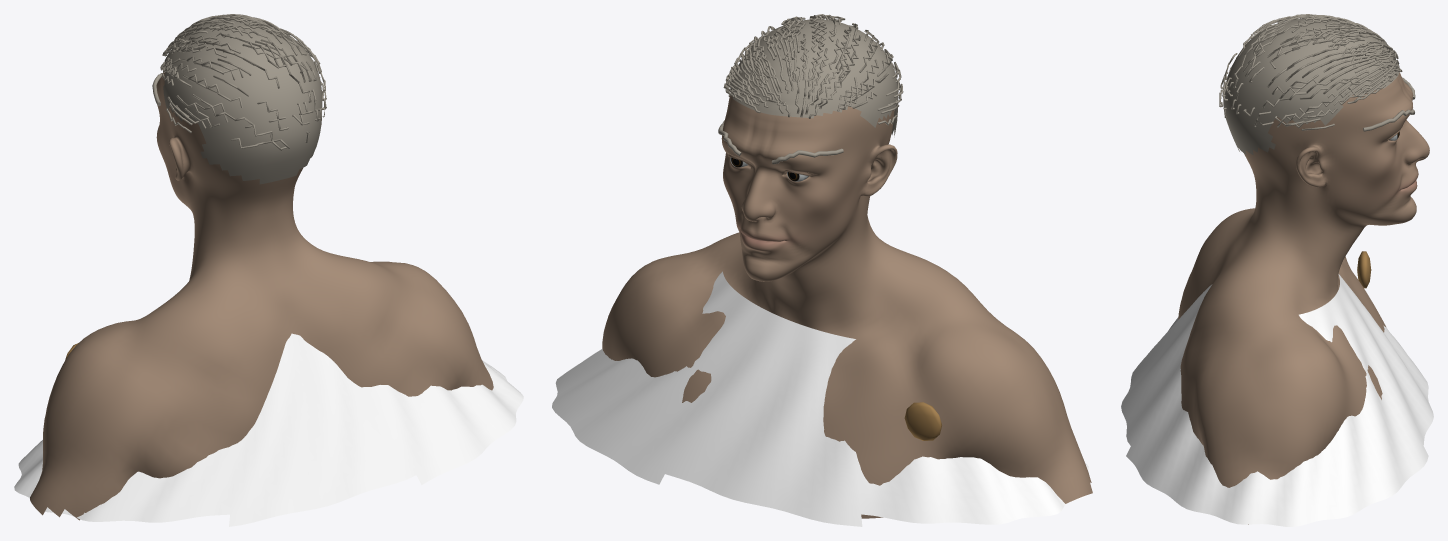
File: envoy_015.glb
3 renders of one model, left to right at view 1: azimuth 30°, elevation 25°; view 2: azimuth 150°, elevation 25°; view 3: azimuth 270°, elevation 25°, orthographic. The views are drawn at different scales.
Visible parts, largest first — view 1: Envoy 015 body, Folded shoulder mantle, Envoy 015 fitted scalp; view 2: Envoy 015 body, Folded shoulder mantle, Envoy 015 fitted scalp, Shoulder clasp; view 3: Envoy 015 body, Folded shoulder mantle, Envoy 015 fitted scalp, Shoulder clasp.
Boxes of the visible parts, bbox=[...] form: Envoy 015 body: bbox=[30, 72, 493, 520]; Folded shoulder mantle: bbox=[14, 333, 523, 526]; Envoy 015 fitted scalp: bbox=[163, 19, 322, 184]; Envoy 015 body: bbox=[602, 92, 1092, 518]; Folded shoulder mantle: bbox=[552, 271, 1088, 526]; Envoy 015 fitted scalp: bbox=[730, 19, 898, 135]; Shoulder clasp: bbox=[904, 402, 941, 440]; Envoy 015 body: bbox=[1178, 72, 1429, 524]; Folded shoulder mantle: bbox=[1121, 274, 1433, 526]; Envoy 015 fitted scalp: bbox=[1223, 19, 1399, 155]; Shoulder clasp: bbox=[1357, 251, 1371, 288].
Size of the model in its own units: 0.3039 by 0.2464 by 0.1768.
